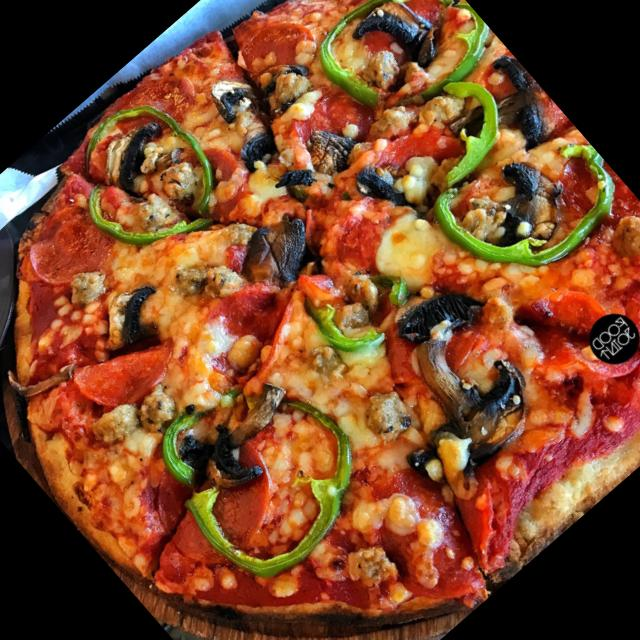mushrooms: (352, 308, 550, 506), (372, 270, 524, 425), (180, 363, 322, 502), (441, 49, 562, 170), (463, 150, 572, 258), (224, 202, 326, 301), (88, 111, 184, 205), (88, 272, 177, 361), (357, 0, 443, 77), (291, 112, 366, 188), (351, 149, 411, 210), (200, 64, 260, 124), (227, 120, 284, 177)
pepperoni: (134, 412, 307, 584), (7, 177, 132, 300), (65, 311, 183, 426), (229, 7, 324, 100), (368, 106, 462, 198)
peppers: (172, 392, 390, 606), (425, 100, 640, 311), (46, 78, 246, 278), (306, 0, 463, 112), (396, 72, 516, 190), (384, 0, 503, 112), (292, 280, 384, 376), (136, 392, 226, 482)
pizza: (12, 0, 640, 620)
